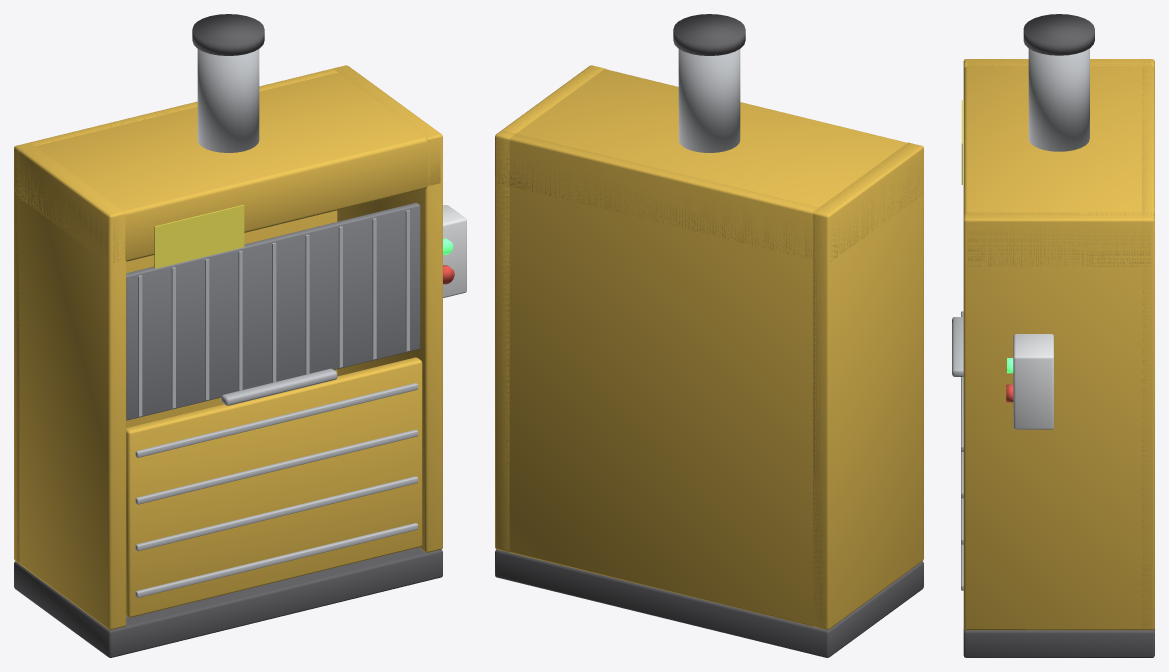
Rendered from baler.glb.
3 views of the same model, side by side, from view 1: azimuth 30°, elevation 25°; view 2: azimuth 150°, elevation 25°; view 3: azimuth 270°, elevation 25° (orthographic).
Visible parts, largest first — view 1: Cube.004, Cube.001, Cube.020, Cube.009, Cube, Cube.002, Cylinder, Cube.003, Cube.022, Cylinder.001, Cube.006, Cube.007 (+13 smaller); view 2: Cube.003, Cube.001, Cube.020, Cube, Cube.002, Cylinder, Cylinder.001; view 3: Cube.002, Cube.020, Cylinder, Cube, Cube.003, Cube.021, Cylinder.001, Cube.001, Cube.019.
Part boxes in pixels (bbox=[...]): Cube.004: bbox=[126, 357, 422, 617]; Cube.001: bbox=[14, 142, 126, 629]; Cube.020: bbox=[15, 70, 440, 262]; Cube.009: bbox=[126, 202, 420, 420]; Cube: bbox=[14, 547, 442, 657]; Cube.002: bbox=[333, 65, 442, 552]; Cylinder: bbox=[197, 49, 259, 152]; Cube.003: bbox=[14, 65, 351, 564]; Cube.022: bbox=[154, 205, 244, 268]; Cylinder.001: bbox=[192, 14, 264, 55]; Cube.006: bbox=[135, 476, 417, 551]; Cube.007: bbox=[135, 429, 417, 504]; Cube.003: bbox=[496, 130, 834, 629]; Cube.001: bbox=[813, 142, 923, 629]; Cube.020: bbox=[497, 66, 922, 261]; Cube: bbox=[495, 549, 923, 657]; Cube.002: bbox=[495, 65, 606, 552]; Cylinder: bbox=[678, 49, 740, 152]; Cylinder.001: bbox=[673, 14, 745, 55]; Cube.002: bbox=[963, 212, 1154, 630]; Cube.020: bbox=[963, 59, 1150, 266]; Cylinder: bbox=[1028, 48, 1089, 151]; Cube: bbox=[963, 628, 1154, 657]; Cube.003: bbox=[1142, 59, 1154, 629]; Cube.021: bbox=[1013, 334, 1053, 429]; Cylinder.001: bbox=[1023, 14, 1094, 55]; Cube.001: bbox=[963, 59, 1154, 68]; Cube.019: bbox=[952, 317, 963, 376].
Size of the model in its own units: 1.72 by 2.37 by 0.795.
